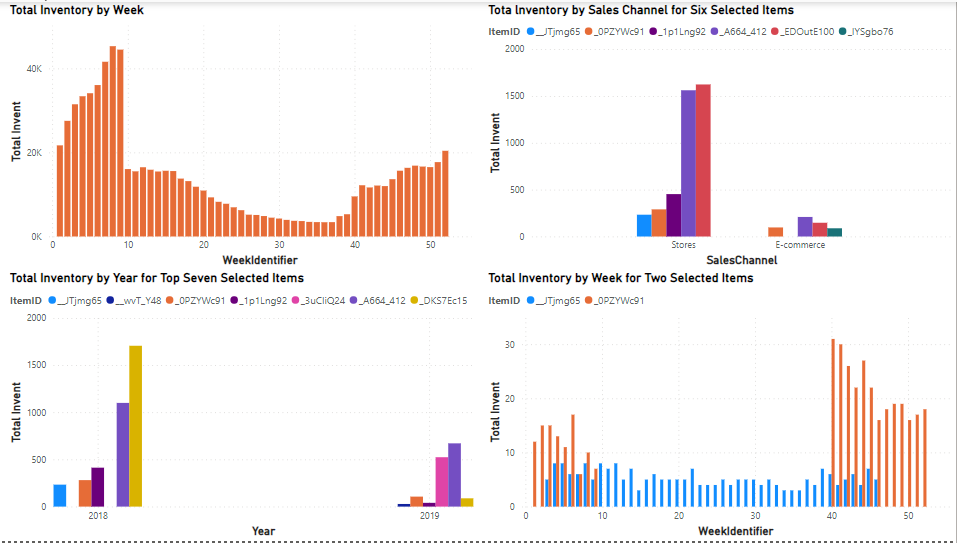

The dashboard page shown, as its layout file describes it:
{"tool":"powerbi","page":{"name":"Page 6","canvas":[1280,720],"ordinal":5},"visuals":[{"type":"clusteredColumnChart","title":"Total Inventory by Week","fields":{"Category":["dimDates.WeekIdentifier"],"Y":["factSales.Total Invent"]},"box":[10.3,0,629.6,358.8],"z":0},{"type":"clusteredColumnChart","title":"Total Inventory by Week for Two Selected Items","fields":{"Series":["factSales.ItemID"],"Y":["factSales.Total Invent"],"Category":["dimDates.WeekIdentifier"]},"box":[650.3,358.8,629.6,360.5],"z":1000},{"type":"clusteredColumnChart","title":"Total Inventory by Year for Top Seven Selected Items","fields":{"Series":["factSales.ItemID"],"Category":["dimDates.Year"],"Y":["factSales.Total Invent"]},"box":[10.3,358.8,629.6,360.5],"z":2000},{"type":"clusteredColumnChart","title":"Tota lnventory by Sales Channel for Six Selected Items","fields":{"Series":["factSales.ItemID"],"Category":["dimChannels.SalesChannel"],"Y":["factSales.Total Invent"]},"box":[650.3,0,629.6,358.8],"z":3000}]}

Visuals, with their boxes in screenshot pixels (x1, y1, x2, y2), scaled from the page's 1280x720 canvas onto the 957x543 screenshot:
"Total Inventory by Week" clusteredColumnChart: crop(8, 0, 478, 271)
"Total Inventory by Week for Two Selected Items" clusteredColumnChart: crop(486, 271, 956, 542)
"Total Inventory by Year for Top Seven Selected Items" clusteredColumnChart: crop(8, 271, 478, 542)
"Tota lnventory by Sales Channel for Six Selected Items" clusteredColumnChart: crop(486, 0, 956, 271)
